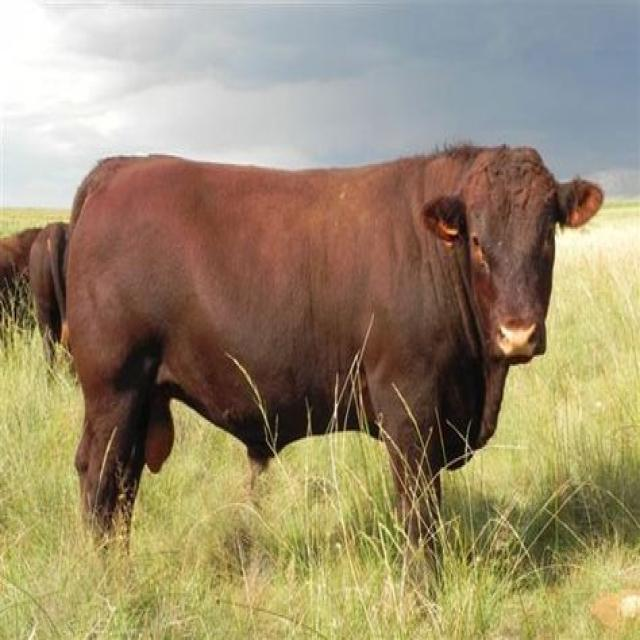cowFace: (409, 126, 604, 395)
